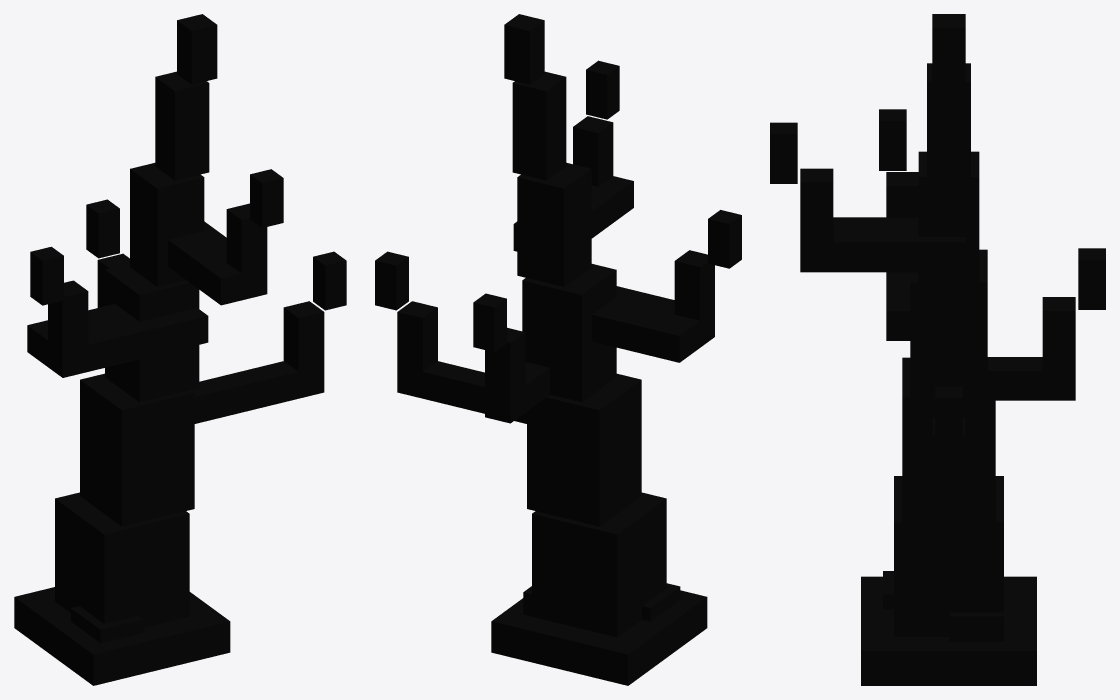
Rendered from DeadTree.obj.
3 renders of one model, left to right at view 1: azimuth 30°, elevation 25°; view 2: azimuth 150°, elevation 25°; view 3: azimuth 270°, elevation 25°, orthographic. The views are drawn at different scales.
Parts seen in each view (by area): view 1: DeadTree; view 2: DeadTree; view 3: DeadTree.
Boxes of the visible parts, x1,y1,x2,y2 form: DeadTree: (14, 14, 346, 685); DeadTree: (375, 14, 741, 685); DeadTree: (770, 14, 1105, 685).
Bounding box in the file's own units: 7.7 × 13.4 × 6.1.
